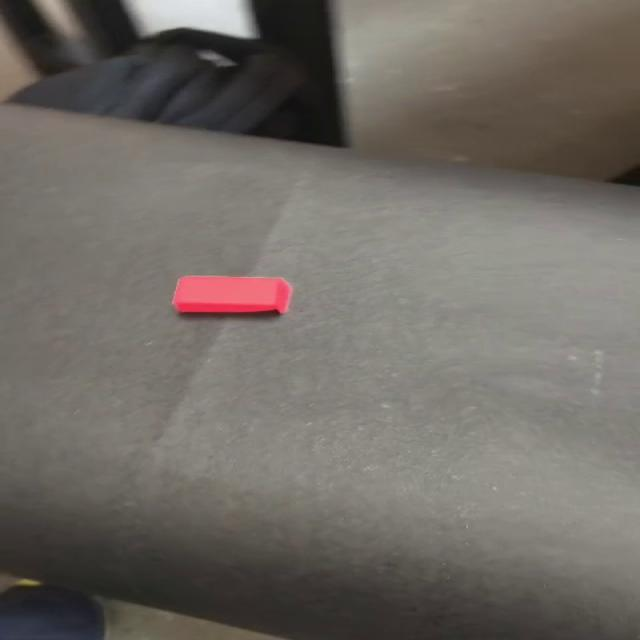red block: (171, 275, 292, 315)
